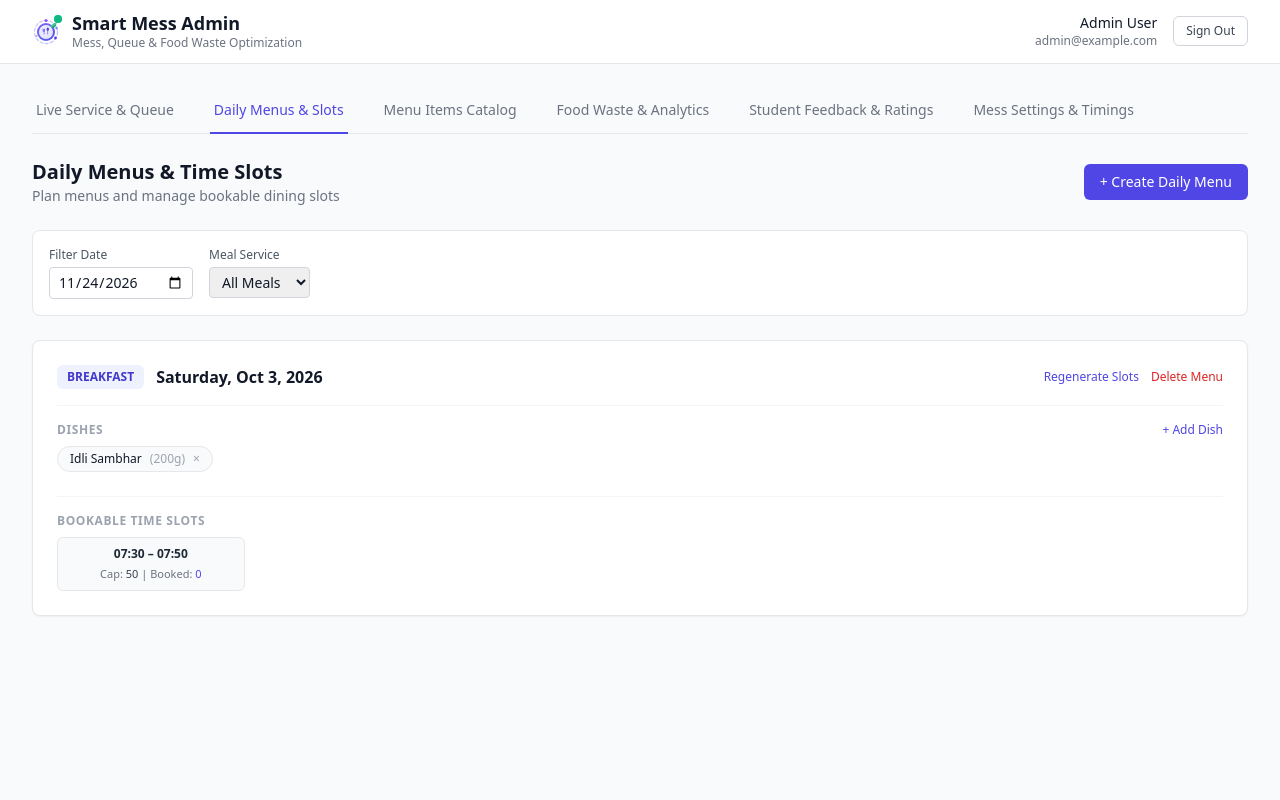
Admin Management UI (Phase 2) › should switch to Menu Items Catalog tab and display dishes
Click the button "Menu Items Catalog" at (450, 110), box [380, 88, 521, 134]
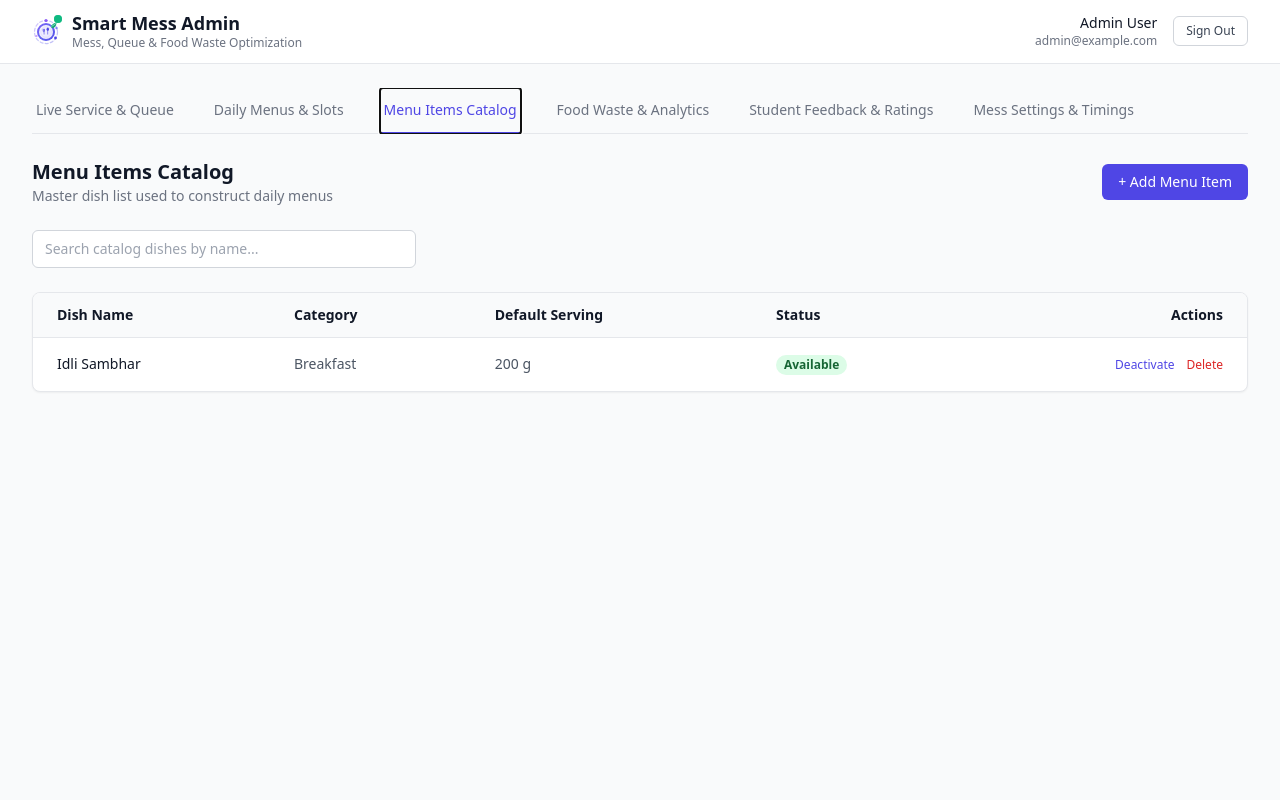
Expected: the text "Idli Sambhar" is shown, [33, 337, 270, 390]
Expected: the button "+ Add Menu Item" is shown, [1102, 164, 1248, 200]
